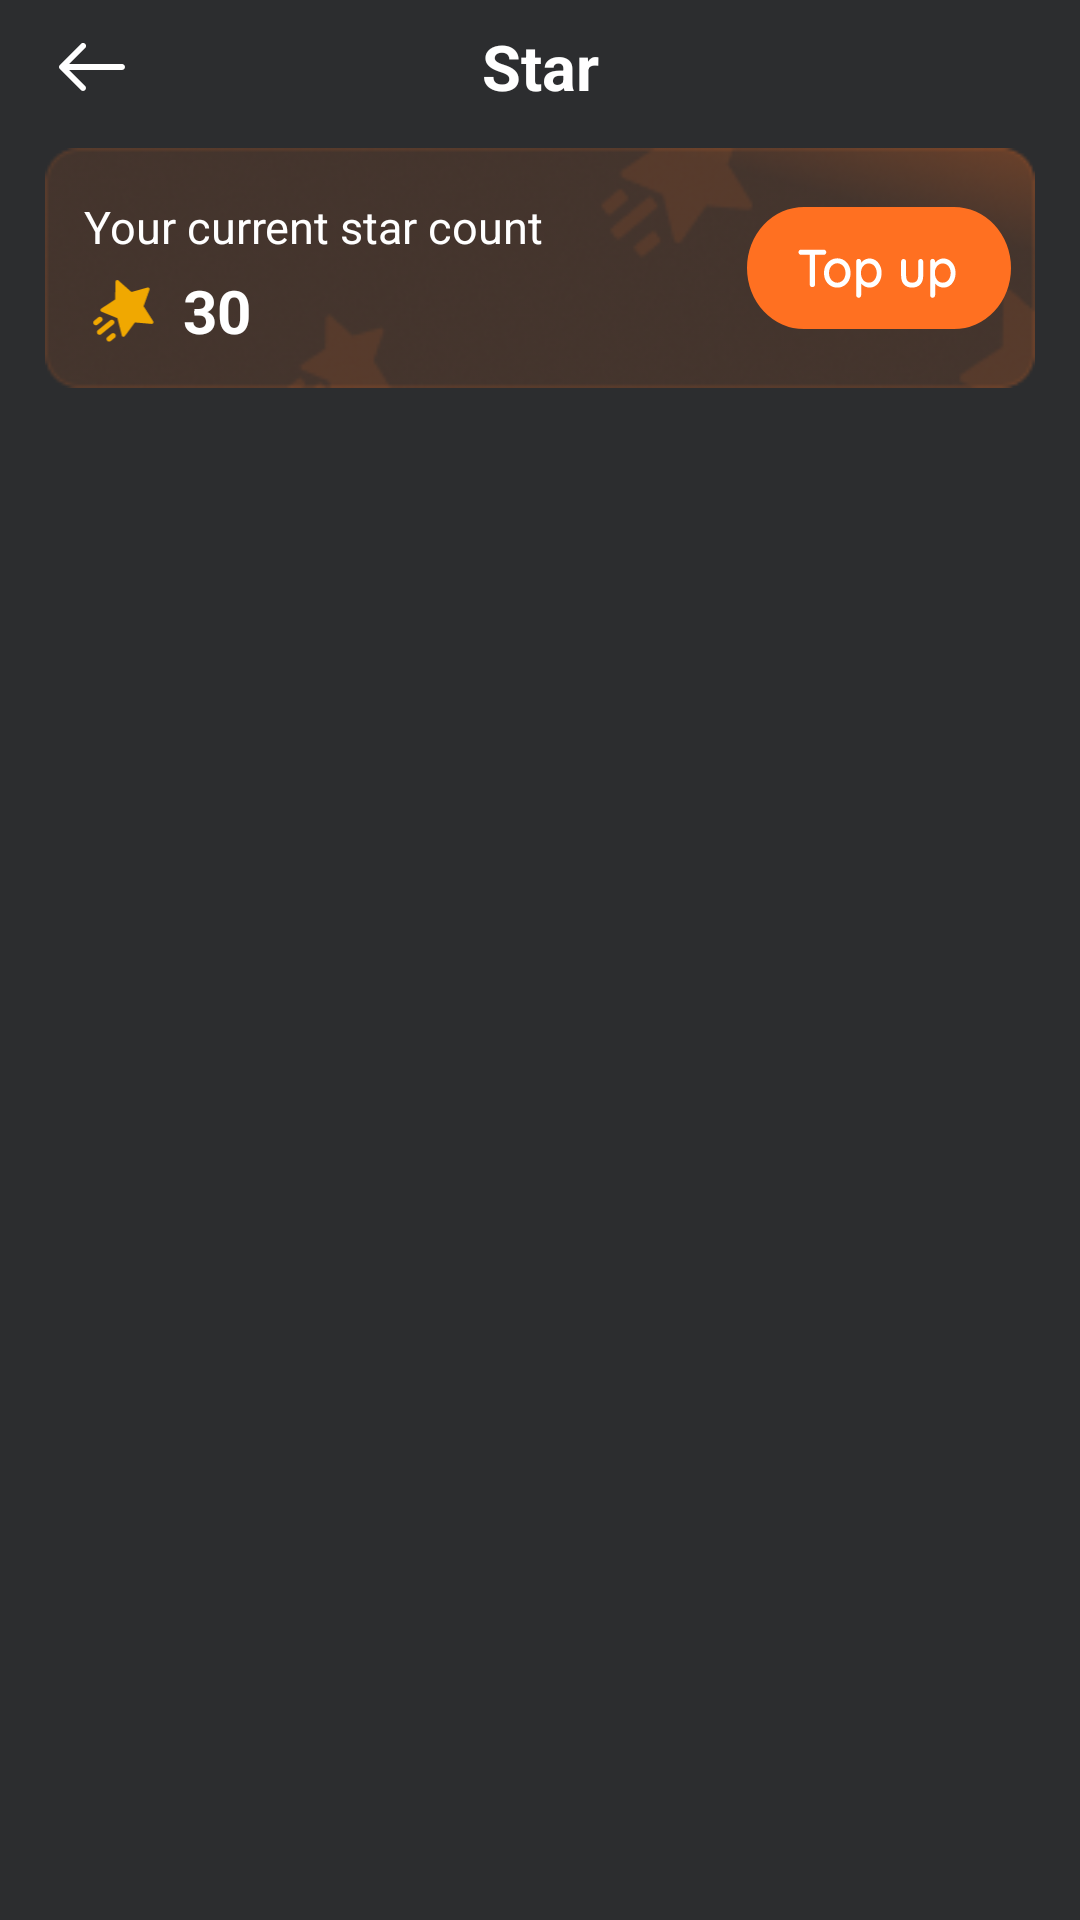

Icon click points for this 1080px x 1920px phone screenshot, format point (x, y):
navigation back: point (92, 67)
